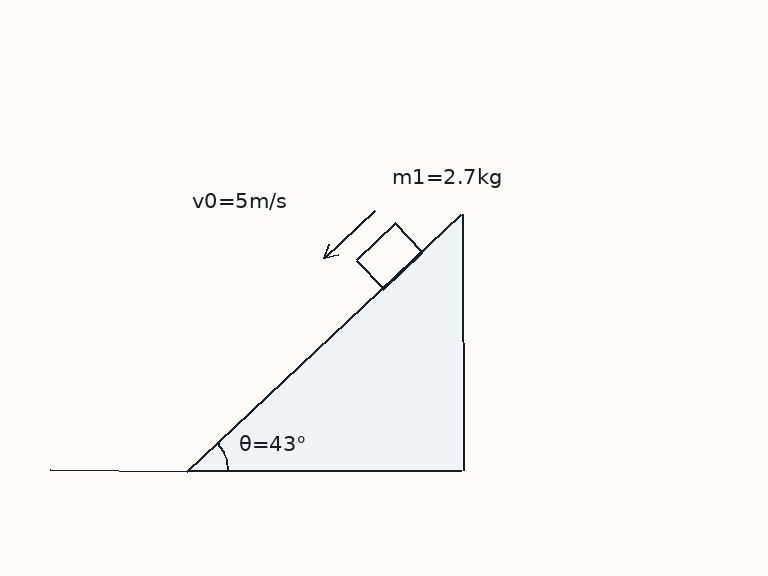block: (354, 222, 424, 291)
ramp: (186, 212, 464, 472)
